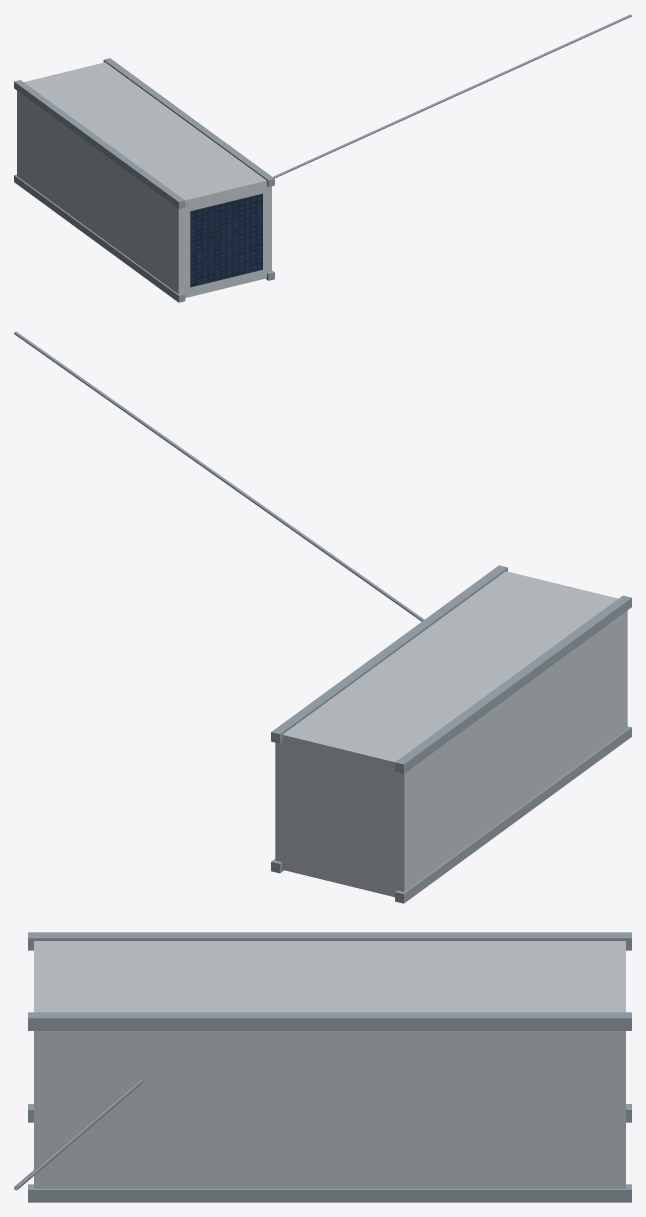
The model's file is ref-cubesat-3u-38764.glb.
3 renders of one model, top to bottom at view 1: azimuth 30°, elevation 25°; view 2: azimuth 150°, elevation 25°; view 3: azimuth 270°, elevation 25°, orthographic. The views are drawn at different scales.
Visible parts, largest first — view 1: Spacecraft body, Body-mounted cells, Dispenser rail (×3), Antenna boom; view 2: Spacecraft body, Dispenser rail (×3), Antenna boom; view 3: Spacecraft body, Dispenser rail (×3), Antenna boom.
Boxes of the visible parts, <box> form: Spacecraft body: <box>17,62,271,297</box>; Body-mounted cells: <box>190,193,262,287</box>; Dispenser rail (×3): <box>14,58,274,302</box>; Antenna boom: <box>273,14,631,178</box>; Spacecraft body: <box>275,571,627,897</box>; Dispenser rail (×3): <box>271,565,631,903</box>; Antenna boom: <box>14,331,424,621</box>; Spacecraft body: <box>34,941,625,1188</box>; Dispenser rail (×3): <box>28,932,631,1202</box>; Antenna boom: <box>14,1079,142,1190</box>.
Size of the model in its own units: 0.4818 by 0.1856 by 0.3131.
Materials: 3 (1 with a texture image).
